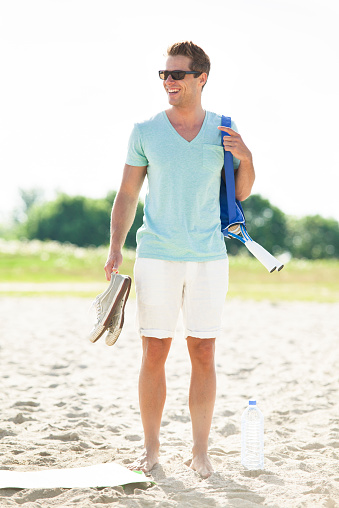em pe: (107, 31, 259, 465)
